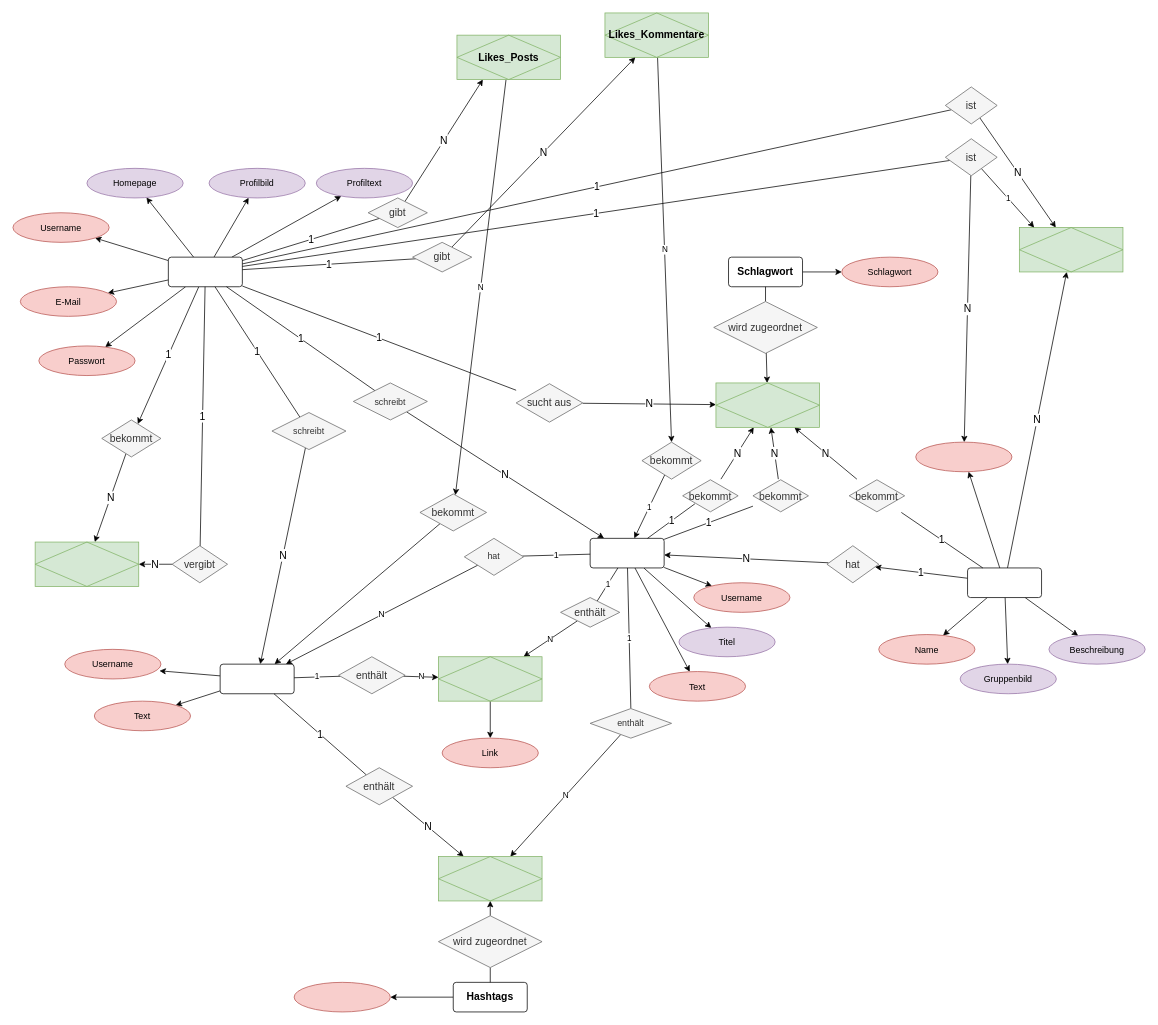
This 1158x1025 diagram has some shape labels left out. The shapes that lost their labels are listed below. From the top down, each one's box as (x1, y1, x2, y2) in pixels, then its label:
(1019, 227, 1123, 272): Gruppen- mitglied
(168, 256, 242, 287): User
(715, 382, 820, 427): Schlagwort_ bezeichnung
(915, 441, 1012, 472): Admin (User)
(34, 541, 139, 586): Tags
(589, 538, 664, 568): Post
(967, 567, 1042, 598): Gruppe
(219, 663, 294, 694): Kommentar
(438, 656, 542, 701): Referenzlink
(438, 856, 542, 901): Hashtag-Bezeichnung
(293, 982, 390, 1012): #name
